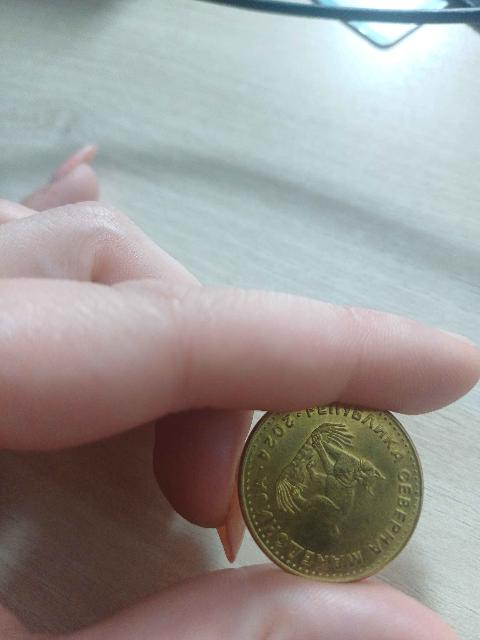coin: (239, 404, 422, 582)
